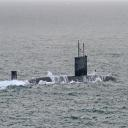submarine: (13, 39, 118, 87)
